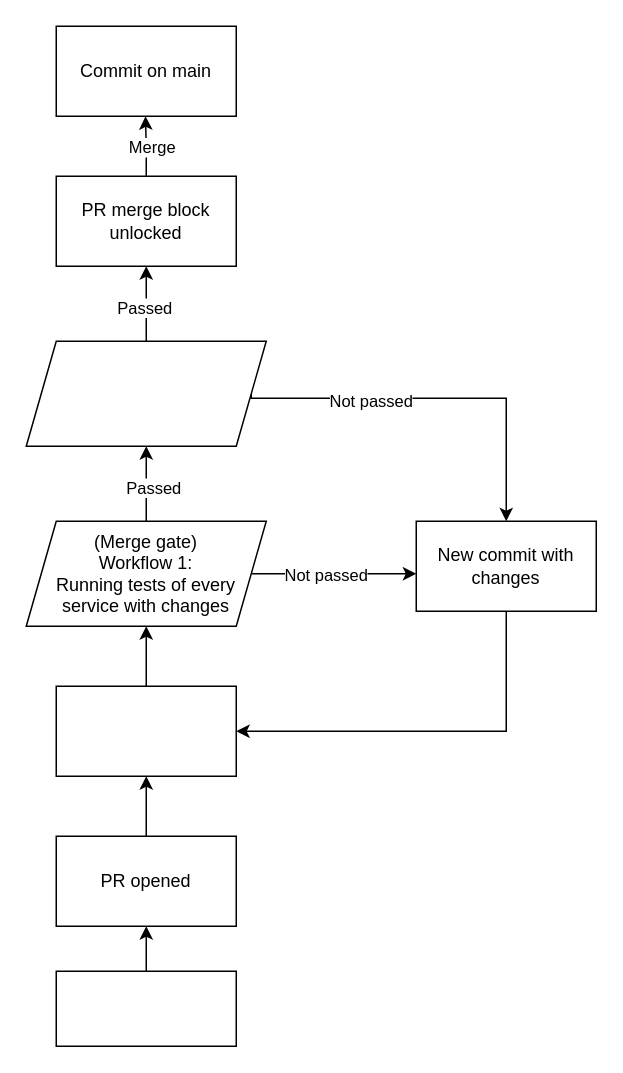
Image size: 623x1073. Some labels were removed from this diagram. Each missing label, with the centre of its shape:
"(Merge gate) Workflow 2: Running E2E test/tests" goes at point (145, 393).
"New commit" goes at point (145, 1008).
"PR blocked from merge" goes at point (145, 730).
